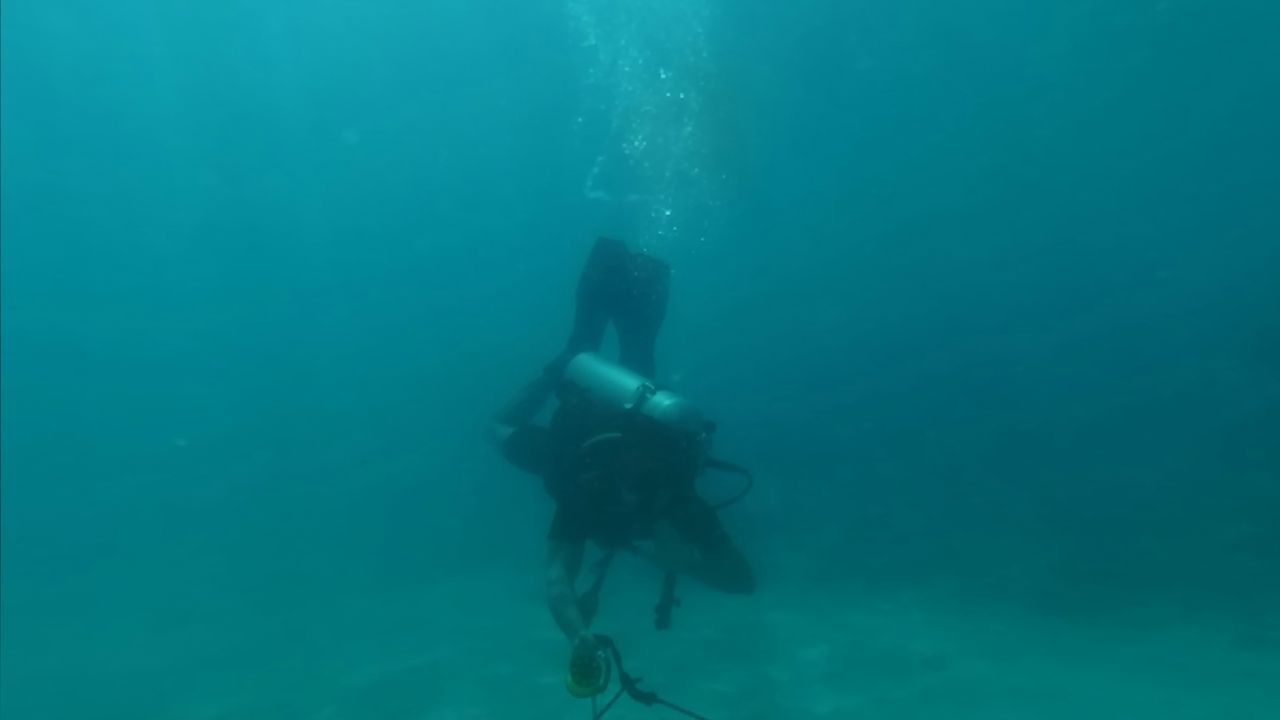Diver: (450, 208, 772, 700)
Hand: (636, 514, 706, 582)
